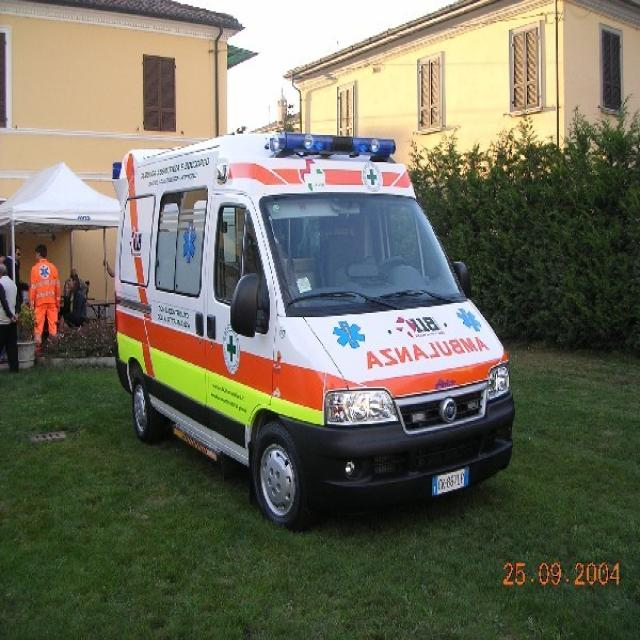emergency-vehicle: (110, 138, 523, 518)
